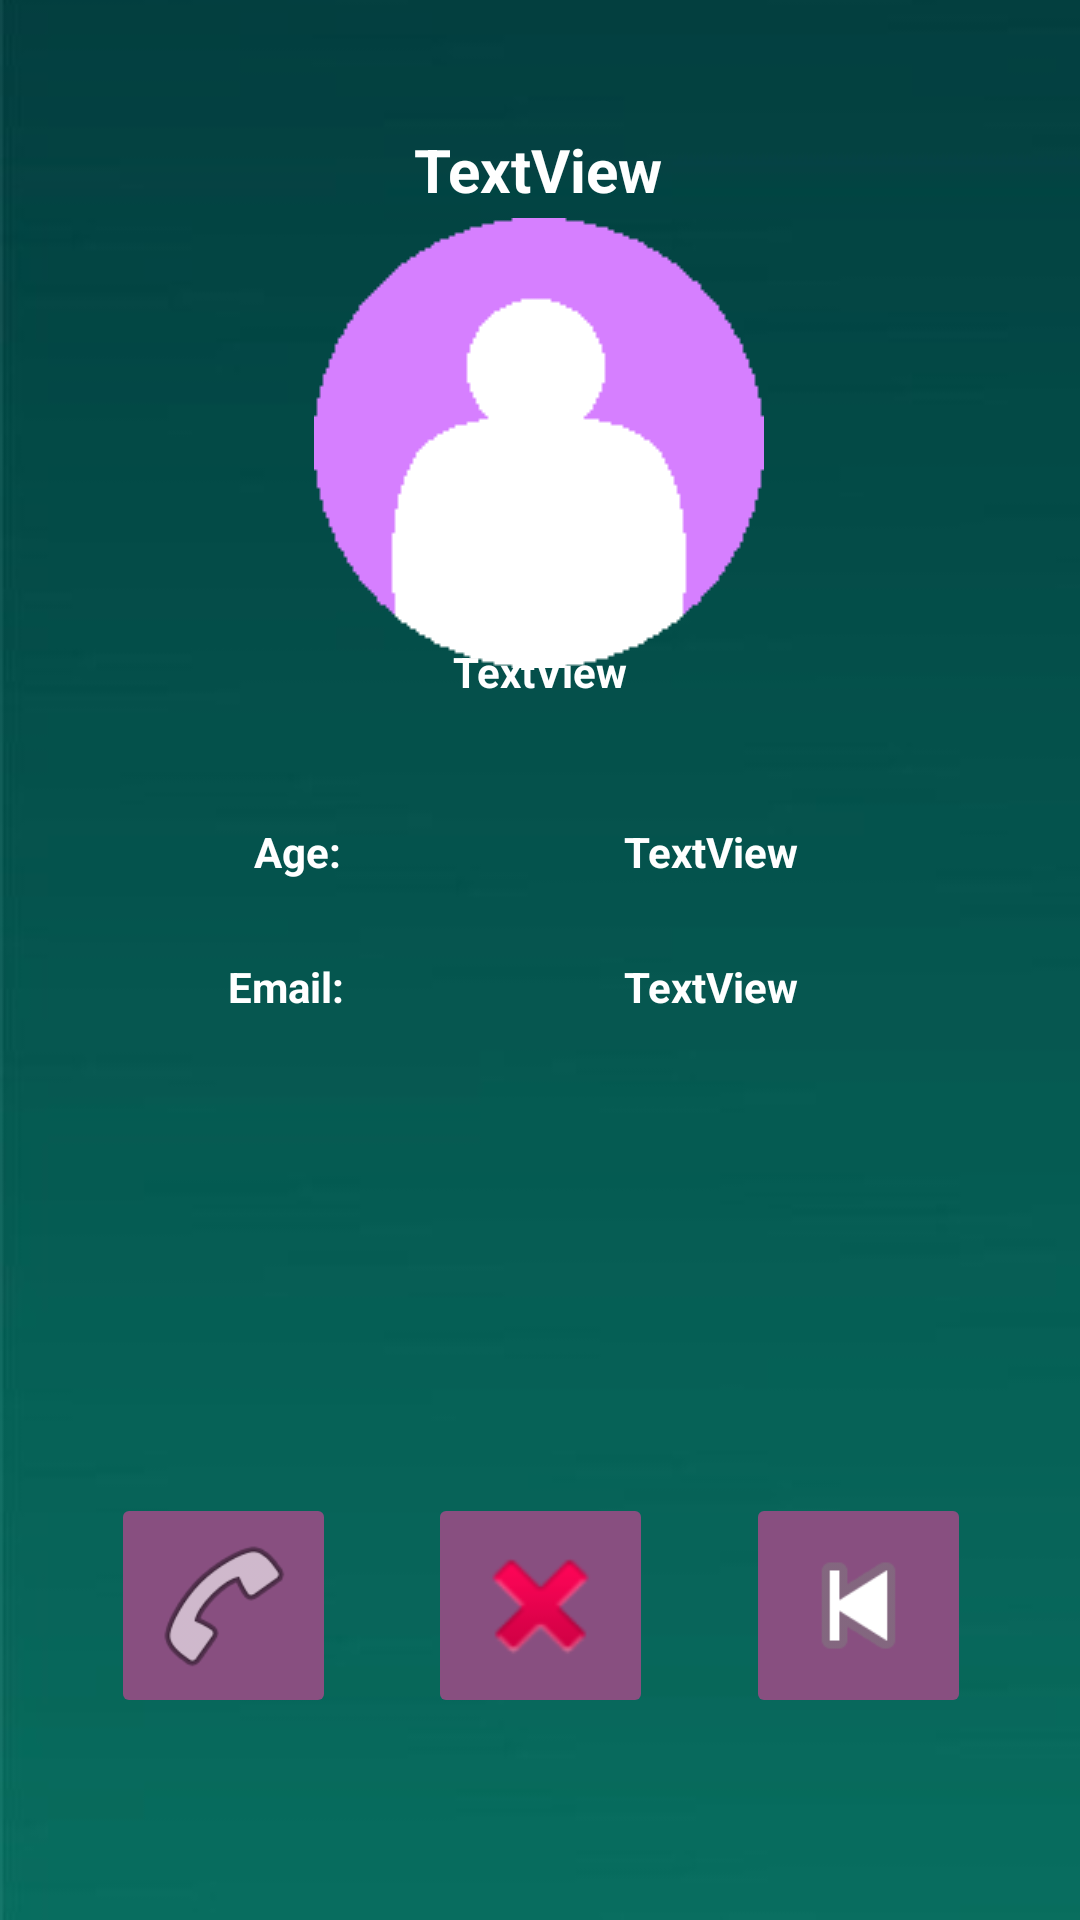

Where to tap for icons on this 1080x1920 app screen, as (x,y):
call: (223,1605)
delete: (540,1605)
previous: (858,1605)
